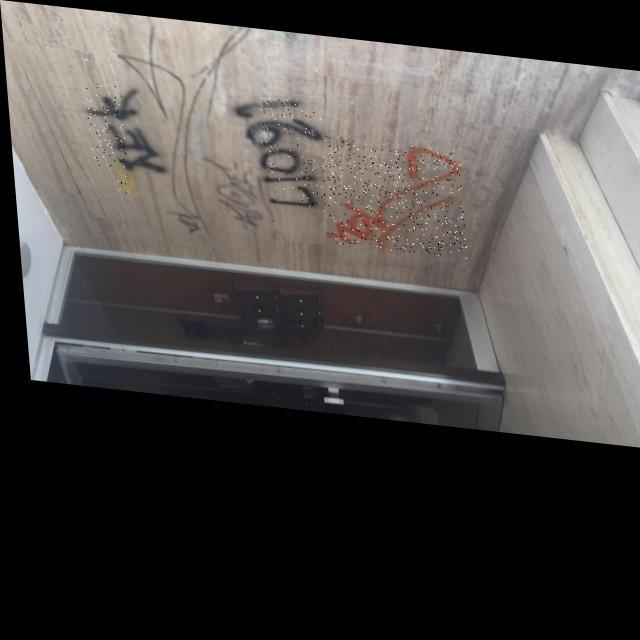-: (115, 10, 268, 247), (316, 128, 464, 248), (230, 88, 326, 204), (84, 80, 165, 170), (200, 150, 271, 227), (114, 159, 140, 196)
